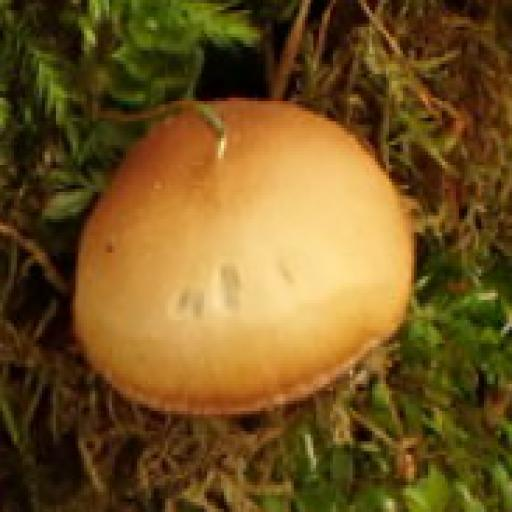Funeral Bell: (74, 89, 416, 418)
